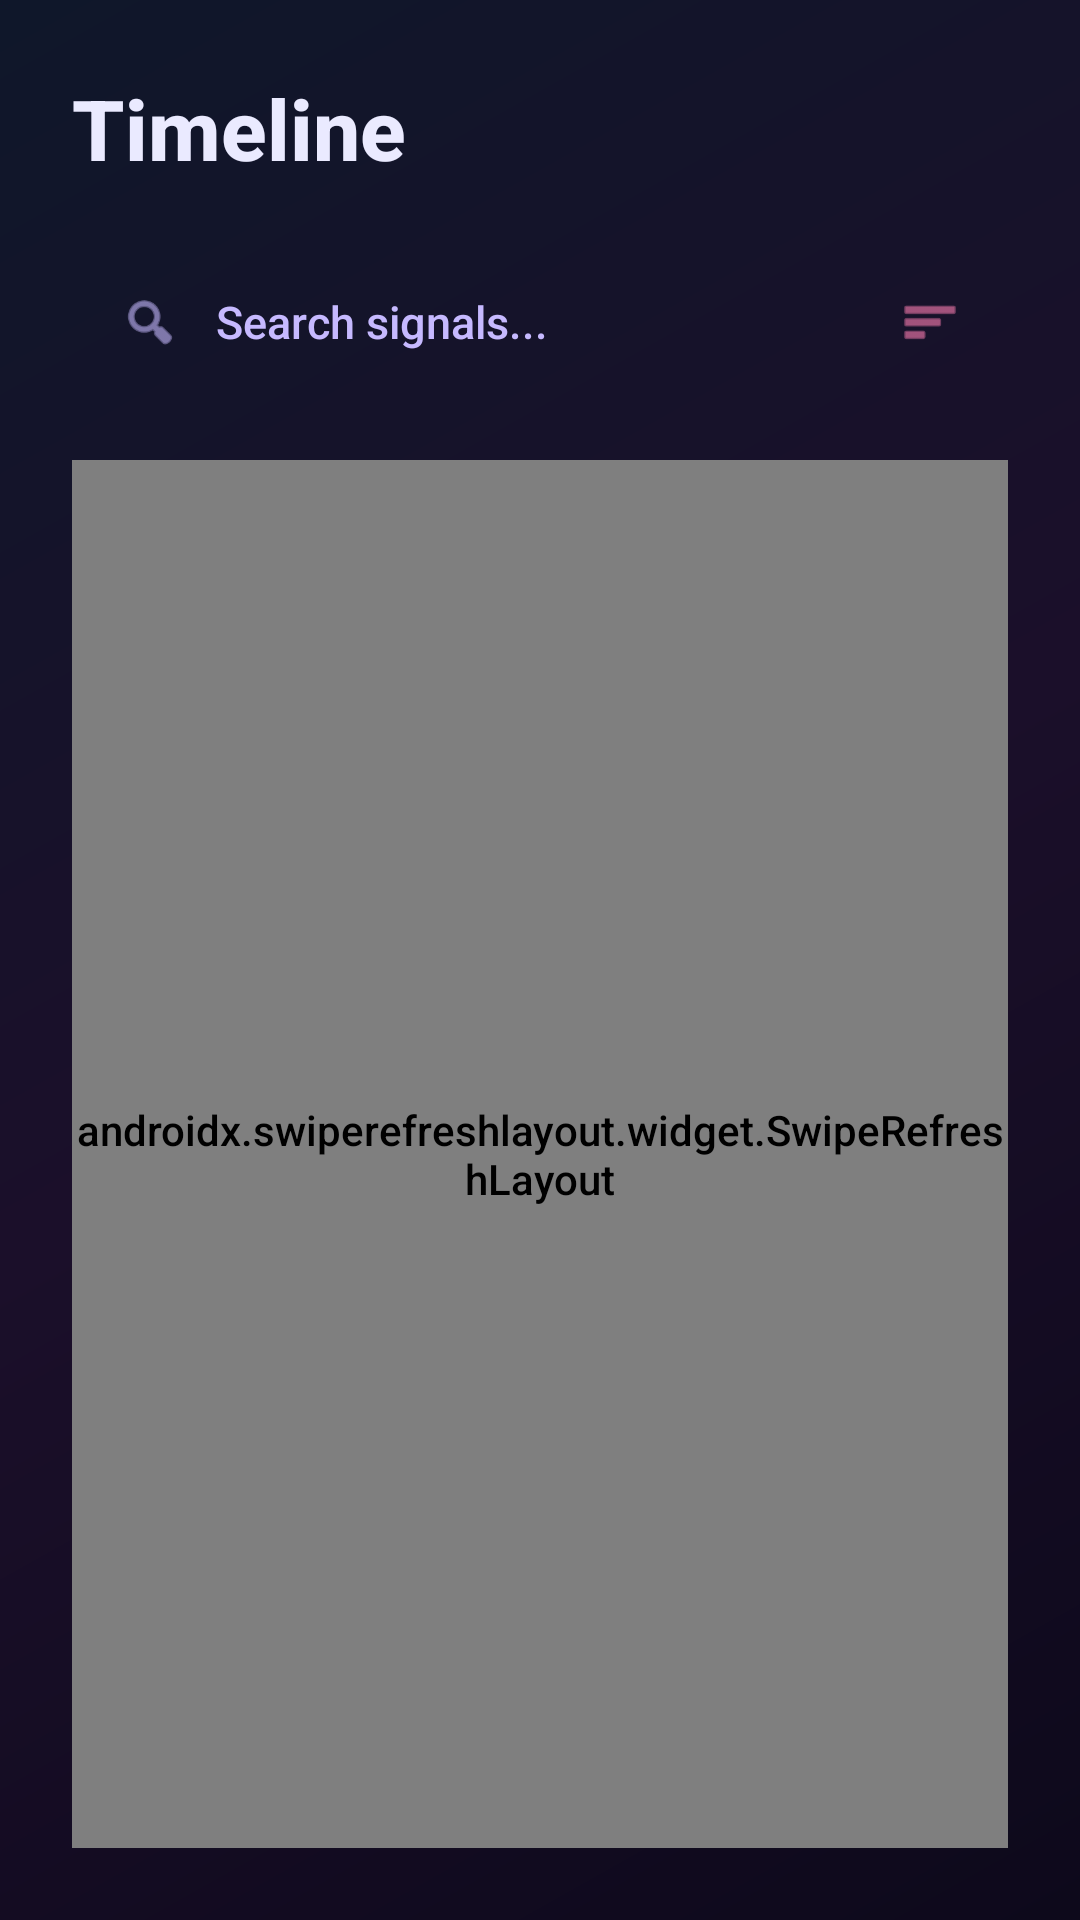

Named icons in this screenshot (1080 x 1920) and their centers, (x=x, y=y):
sort by size: (x=930, y=322)
